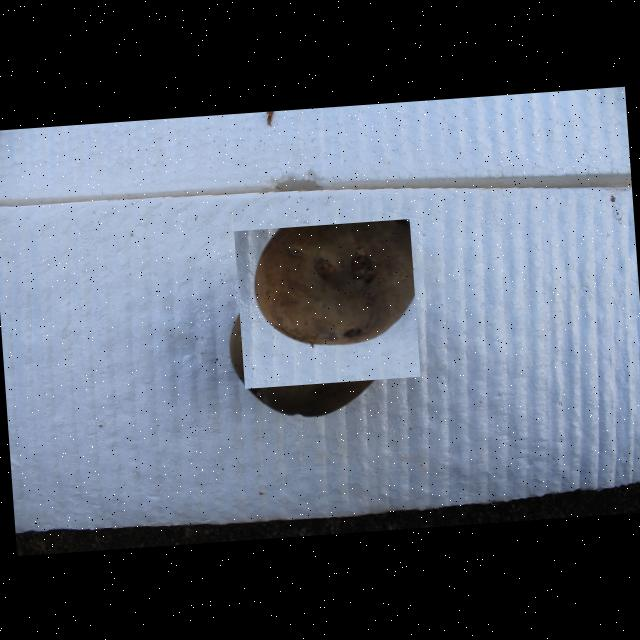Diseased-fungal potato: (232, 218, 420, 388)
